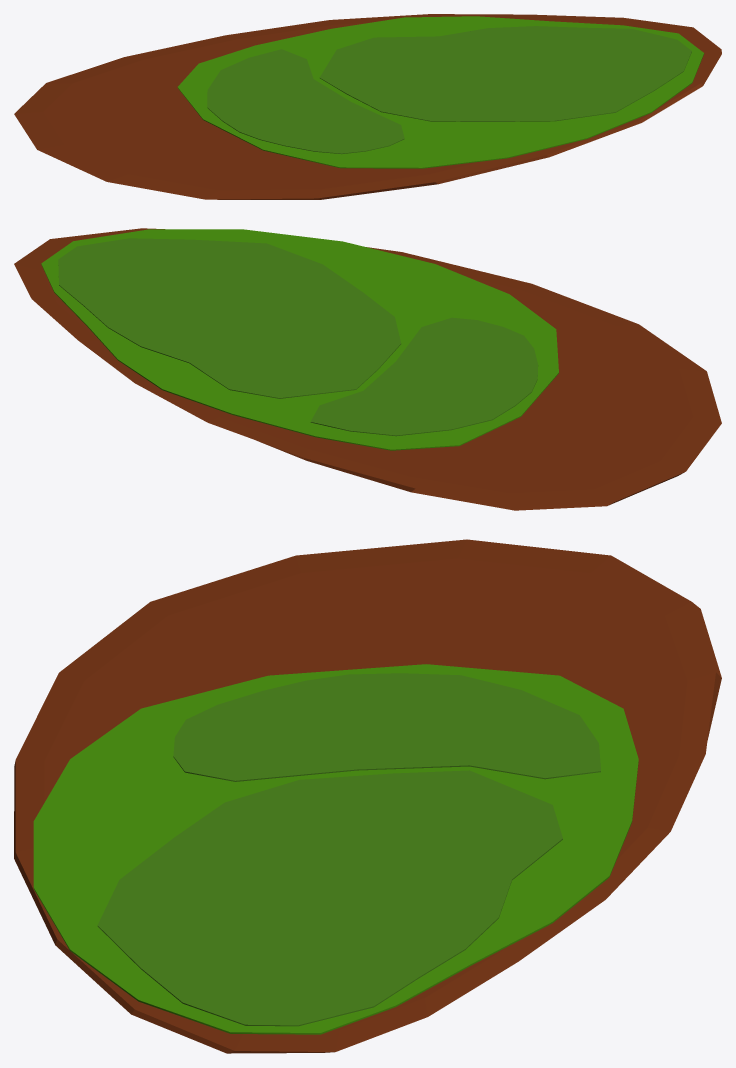
File: terrain_01.FBX
The picture shows the model from 3 angles, top to bottom: view 1: azimuth 30°, elevation 25°; view 2: azimuth 150°, elevation 25°; view 3: azimuth 270°, elevation 25°; orthographic projection. The views are drawn at different scales.
Visible parts, largest first — view 1: Cylinder001, Cylinder003, Cylinder002, Cylinder004; view 2: Cylinder001, Cylinder003, Cylinder002, Cylinder004; view 3: Cylinder001, Cylinder003, Cylinder002, Cylinder004.
Part boxes in pixels (x1,y1,x2,y2): Cylinder001: (14, 14, 721, 199); Cylinder003: (319, 26, 691, 121); Cylinder002: (177, 16, 704, 168); Cylinder004: (207, 49, 404, 154); Cylinder001: (14, 228, 721, 510); Cylinder003: (58, 238, 401, 398); Cylinder002: (41, 229, 558, 450); Cylinder004: (310, 317, 538, 436); Cylinder001: (14, 539, 721, 1053); Cylinder003: (97, 770, 562, 1026); Cylinder002: (33, 664, 638, 1034); Cylinder004: (173, 673, 600, 781).
Bounding box in the file's own units: 1538 × 13.86 × 897.
